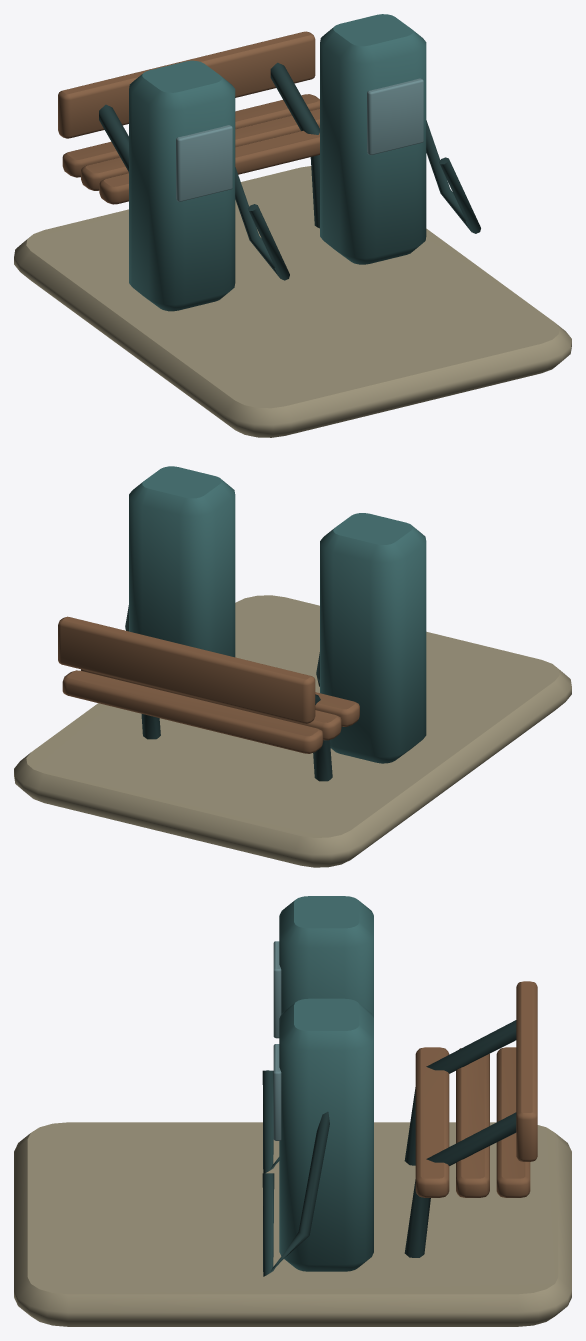
Rendered from annex_charge_2.glb.
The picture shows the model from 3 angles, top to bottom: view 1: azimuth 30°, elevation 25°; view 2: azimuth 150°, elevation 25°; view 3: azimuth 270°, elevation 25°; orthographic projection. The views are drawn at different scales.
Visible parts, largest first — view 1: AnnexCharge2; view 2: AnnexCharge2; view 3: AnnexCharge2.
Boxes of the visible parts, box(x1,y1,x2,y2) form: AnnexCharge2: box(14, 14, 571, 437); AnnexCharge2: box(14, 466, 571, 867); AnnexCharge2: box(14, 896, 571, 1326).
Bounding box in the file's own units: 1.96 × 1.36 × 2.48.
